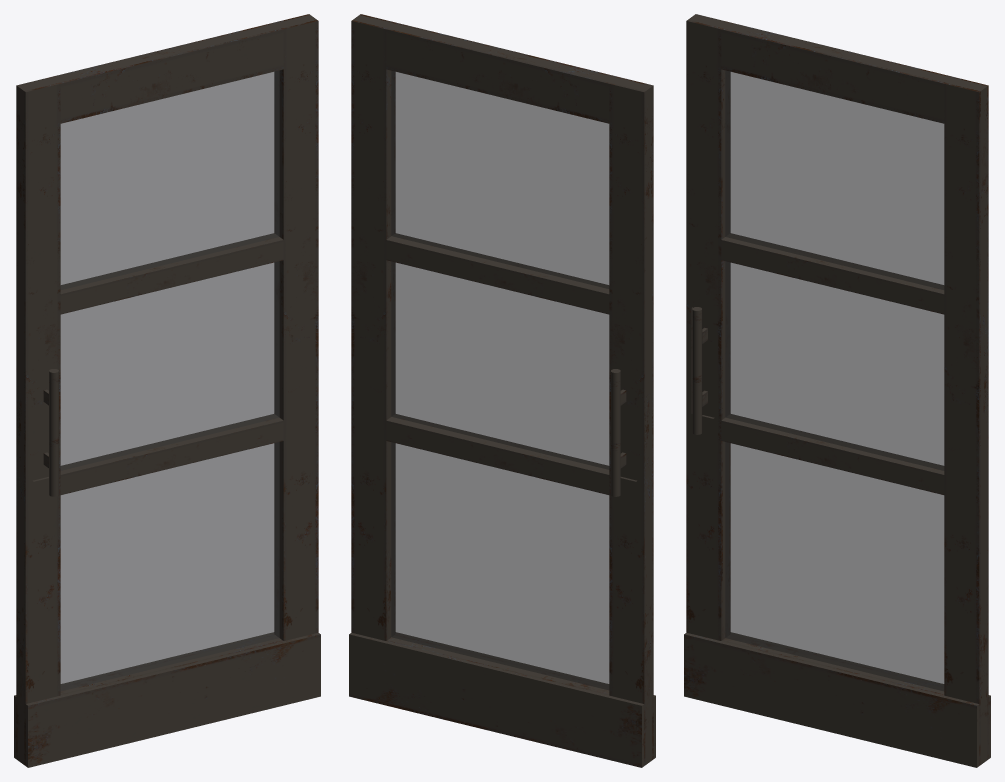
File: Door_3.gltf
The picture shows the model from 3 angles, left to right: view 1: azimuth 30°, elevation 25°; view 2: azimuth 150°, elevation 25°; view 3: azimuth 330°, elevation 25°; orthographic projection.
Parts seen in each view (by area): view 1: Door_3; view 2: Door_3; view 3: Door_3.
Part boxes in pixels (x1=…): Door_3: x1=14, y1=14, x2=320, y2=767; Door_3: x1=349, y1=14, x2=655, y2=767; Door_3: x1=684, y1=14, x2=990, y2=767.
Bounding box in the file's own units: 1 × 2.2 × 0.1883.
Materials: 2 (1 with a texture image).
